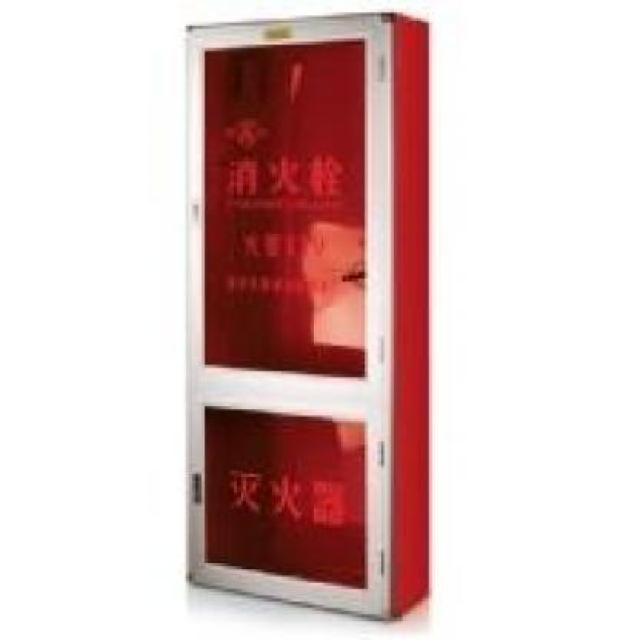firehydrant: (179, 7, 436, 626)
